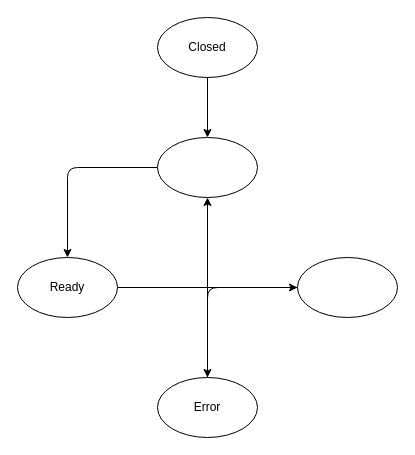
The diagram is 415 pixels wide and 455 high, and some of its shapes have lost their labels. Each missing label, with the centre of its shape:
Interactive: pixel 347 287
Loading: pixel 207 167
